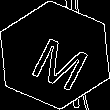M_NE: (20, 22, 90, 88)
